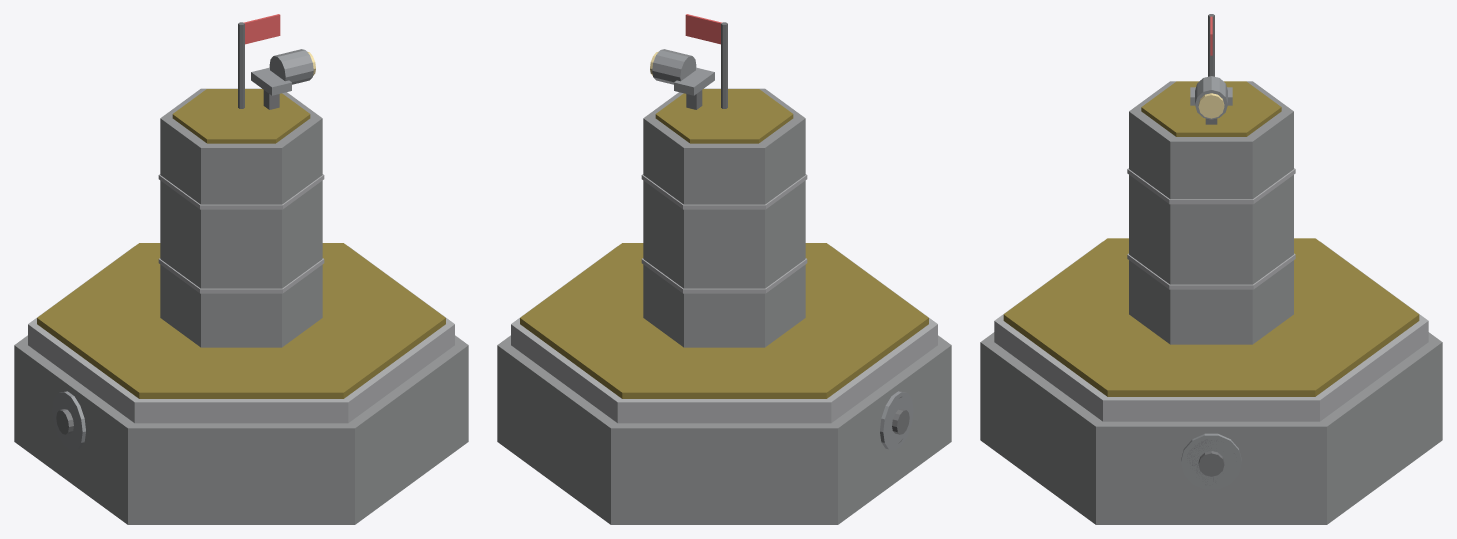
File: watch_tower_s1_100.glb
3 views of the same model, side by side, from view 1: azimuth 30°, elevation 25°; view 2: azimuth 150°, elevation 25°; view 3: azimuth 270°, elevation 25° (orthographic).
Visible parts, largest first — view 1: WT_Base; view 2: WT_Base; view 3: WT_Base.
Boxes of the visible parts, x1,y1,x2,y2 form: WT_Base: [14, 14, 468, 524]; WT_Base: [497, 14, 951, 524]; WT_Base: [980, 14, 1442, 524].
Size of the model in its own units: 1.78 by 1.99 by 1.96.
